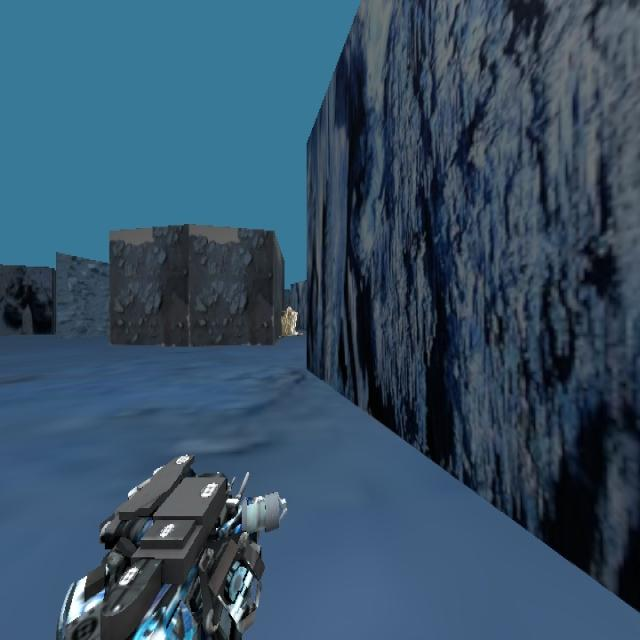Ice: (268, 296, 307, 345)
